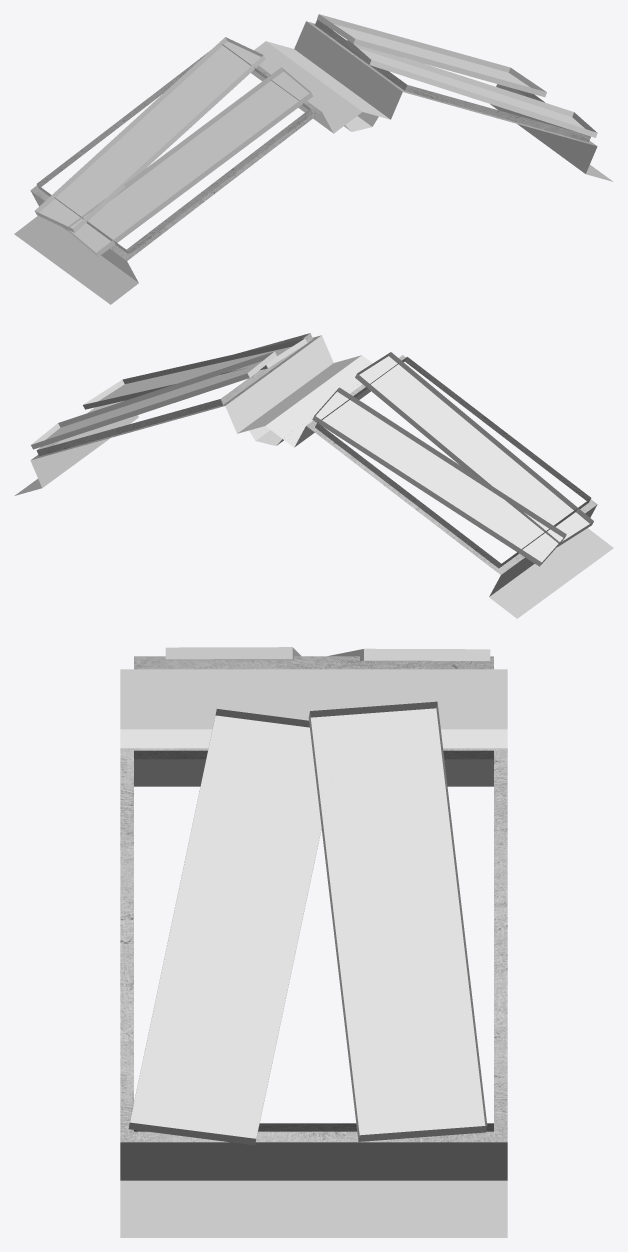
Rendered from C_RoofMid.fbx.
3 renders of one model, top to bottom at view 1: azimuth 30°, elevation 25°; view 2: azimuth 150°, elevation 25°; view 3: azimuth 270°, elevation 25°, orthographic. The views are drawn at different scales.
Parts seen in each view (by area): view 1: C_RoofMid; view 2: C_RoofMid; view 3: C_RoofMid.
Boxes of the visible parts, <box> form: C_RoofMid: <box>14,14,613,304</box>; C_RoofMid: <box>14,333,613,618</box>; C_RoofMid: <box>120,647,507,1237</box>.
Size of the model in its own units: 1206 by 371 by 400.
